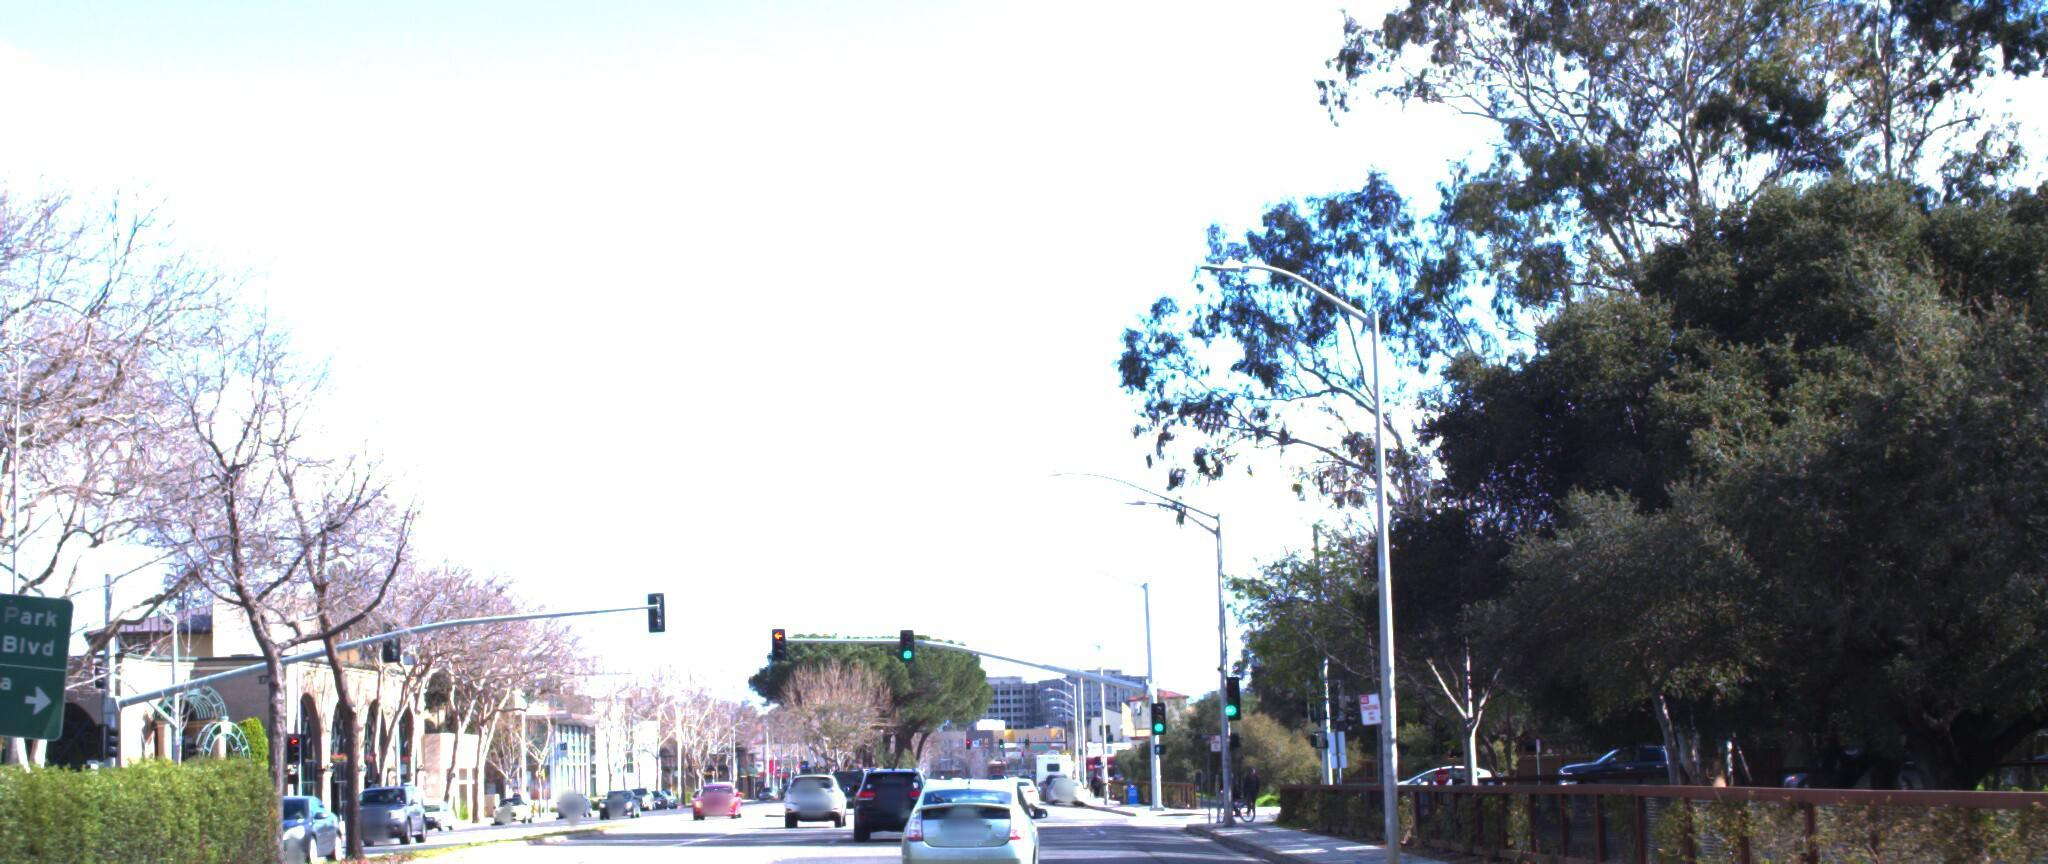car: (883, 771, 1034, 864), (842, 761, 930, 838)
